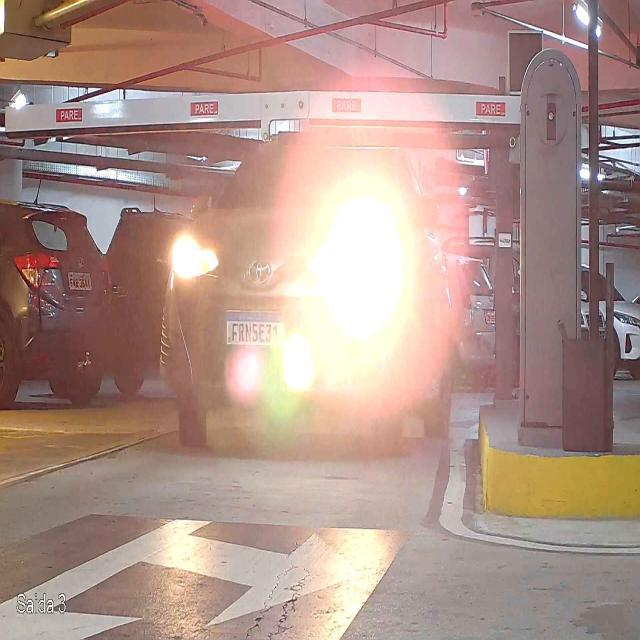mercosul_plate: (223, 308, 289, 349)
